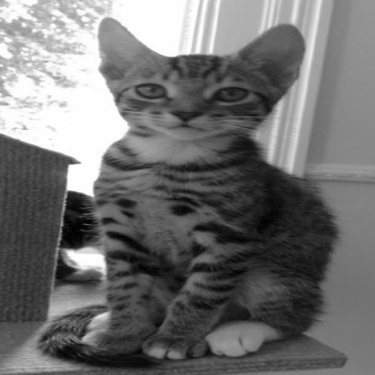cat: (32, 9, 339, 355)
